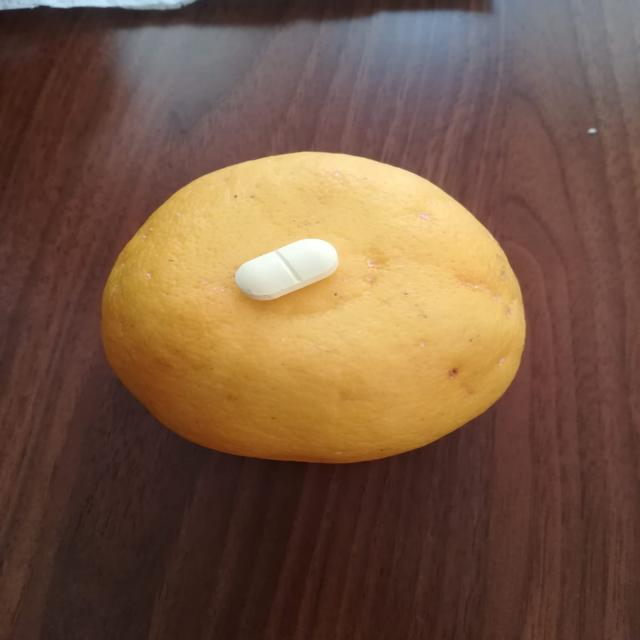pills: (226, 232, 357, 304)
